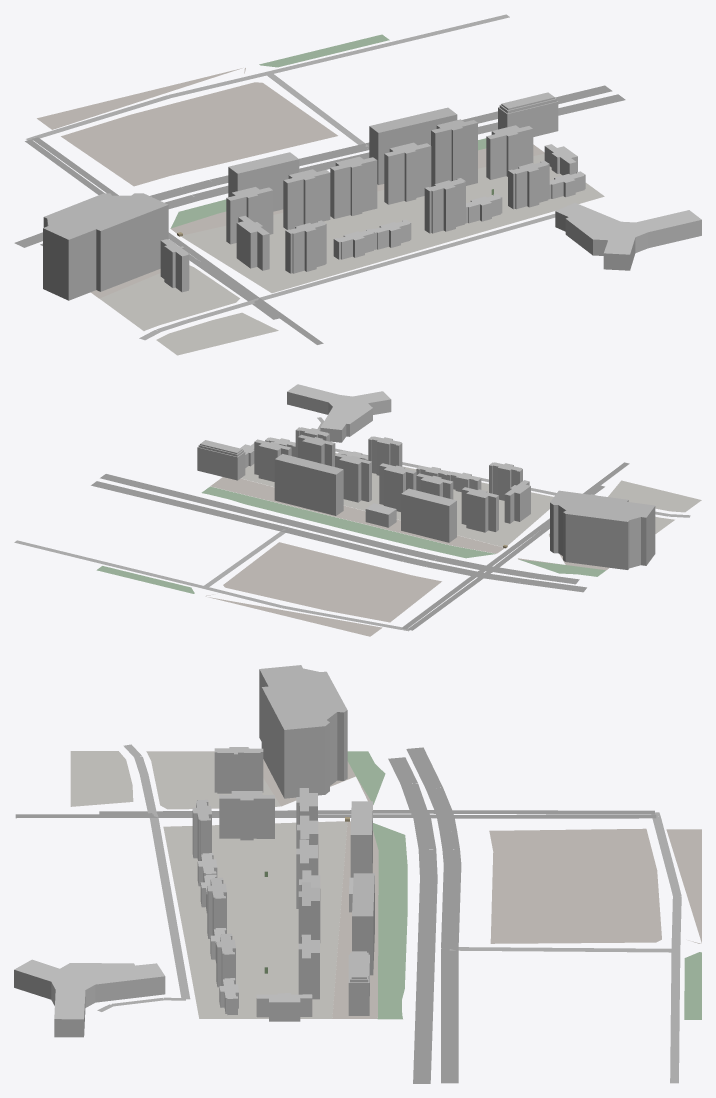
The picture shows the model from 3 angles, top to bottom: view 1: azimuth 30°, elevation 25°; view 2: azimuth 150°, elevation 25°; view 3: azimuth 270°, elevation 25°; orthographic projection. The views are drawn at different scales.
Size of the model in its own units: 653 by 61.87 by 545.
